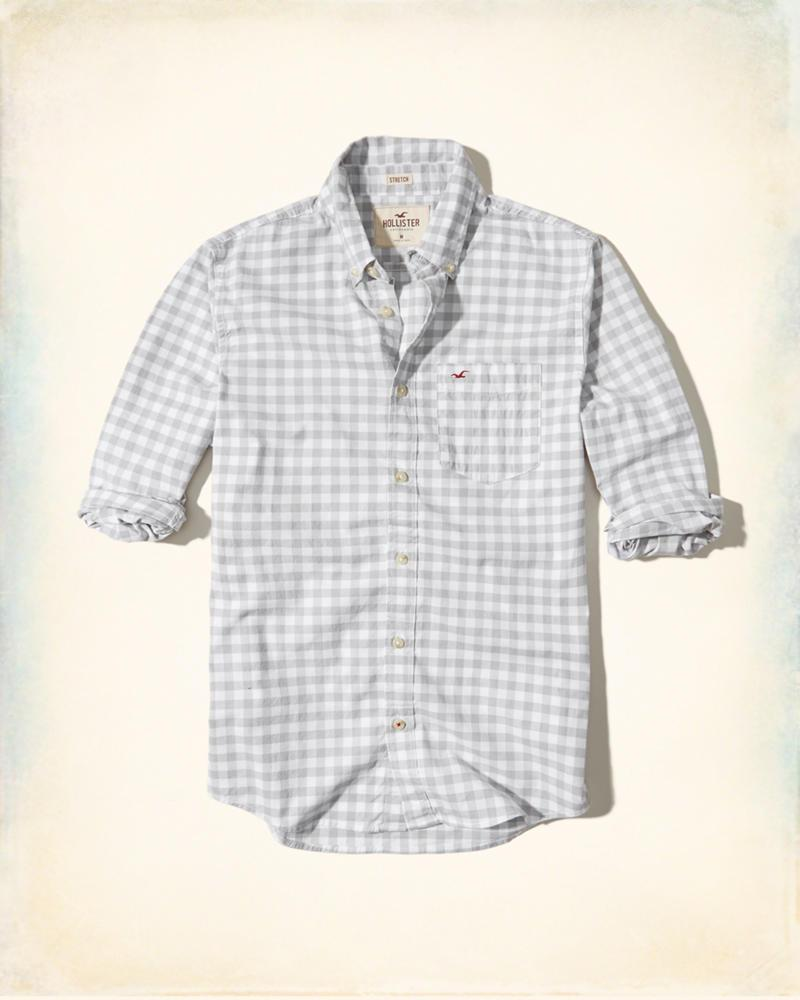teeshirt: (68, 128, 742, 874)
